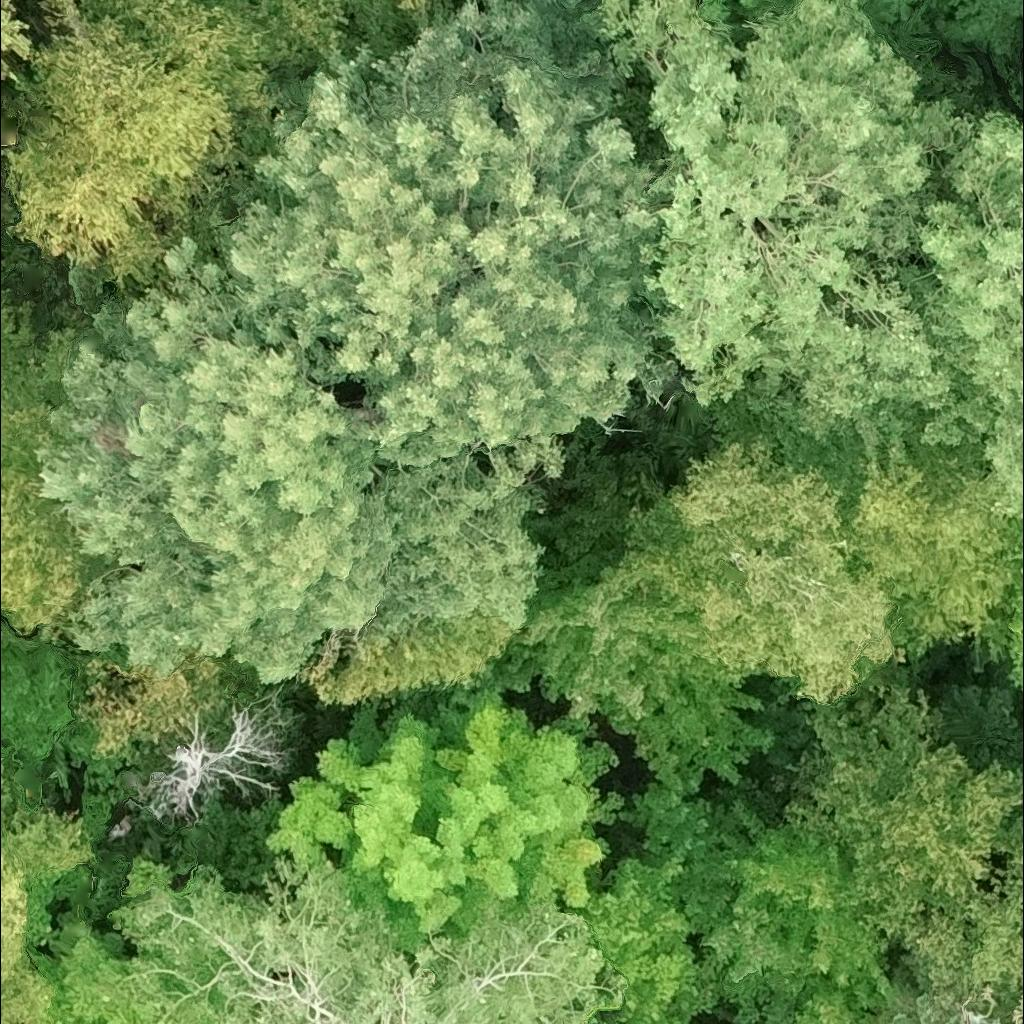crown: (26, 232, 548, 689), (204, 0, 673, 486), (594, 0, 971, 446), (0, 0, 360, 292), (262, 689, 624, 956), (104, 853, 620, 1023), (618, 431, 900, 707), (474, 557, 776, 797), (761, 415, 1023, 659), (781, 681, 1023, 945), (899, 110, 1023, 521), (619, 783, 813, 1023), (716, 801, 906, 1023), (0, 285, 106, 640), (0, 753, 94, 1023), (581, 847, 720, 1023), (905, 814, 1023, 1011), (310, 613, 518, 707), (45, 911, 219, 1023), (861, 949, 1022, 1023), (975, 538, 1023, 691), (357, 0, 456, 43), (0, 0, 33, 85), (39, 0, 90, 35), (704, 0, 765, 24), (1017, 1010, 1023, 1023)
